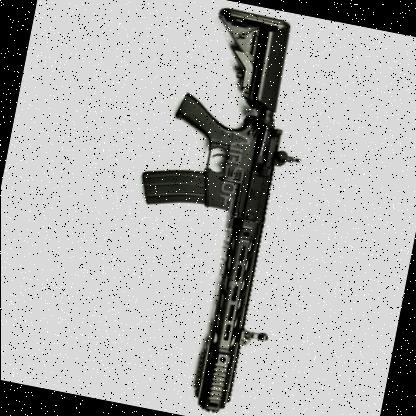rifle: (77, 0, 325, 416)
